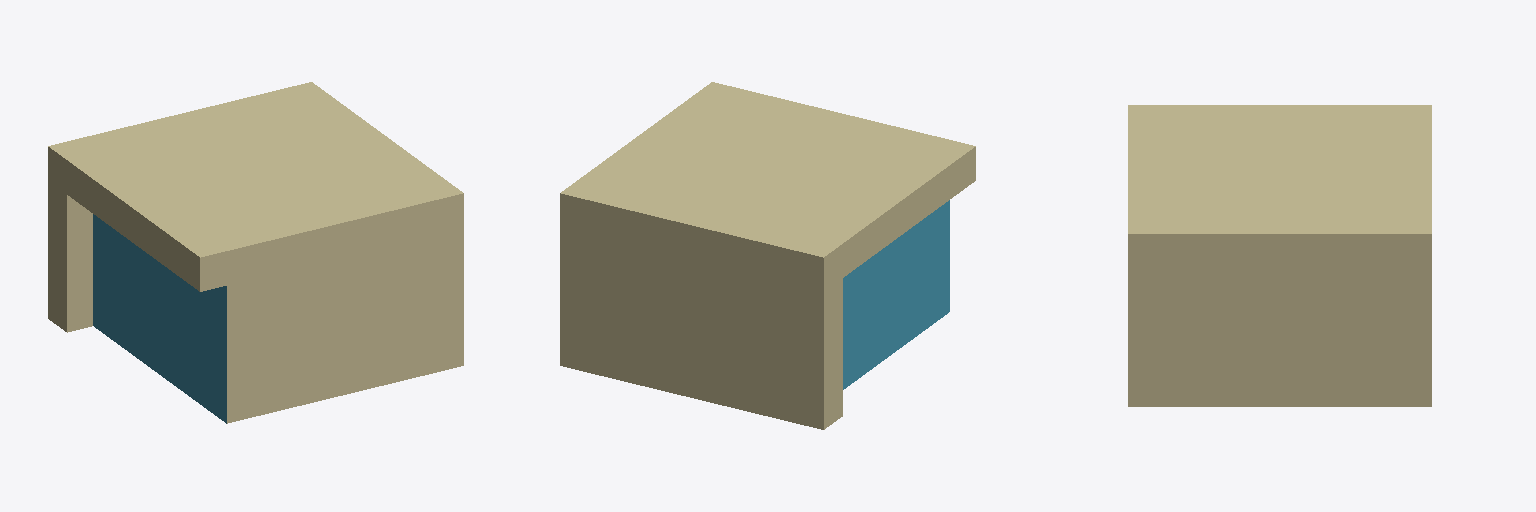
The picture shows the model from 3 angles: view 1: azimuth 30°, elevation 25°; view 2: azimuth 150°, elevation 25°; view 3: azimuth 270°, elevation 25°; orthographic projection.
Parts seen in each view (by area): view 1: G-__556194_G-__556194_Brick, G-__556194_G-__556194_Glass; view 2: G-__556194_G-__556194_Brick, G-__556194_G-__556194_Glass; view 3: G-__556194_G-__556194_Brick.
Boxes of the visible parts, x1=… form: G-__556194_G-__556194_Brick: x1=48, y1=82, x2=463, y2=423; G-__556194_G-__556194_Glass: x1=93, y1=214, x2=226, y2=423; G-__556194_G-__556194_Brick: x1=560, y1=82, x2=975, y2=429; G-__556194_G-__556194_Glass: x1=843, y1=200, x2=949, y2=389; G-__556194_G-__556194_Brick: x1=1128, y1=105, x2=1431, y2=406.
Bounding box in the file's own units: 1 × 0.625 × 1.